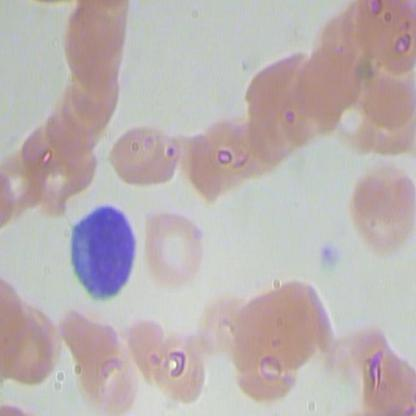RBC: (348, 159, 415, 262), (102, 118, 184, 186), (140, 210, 209, 288), (1, 308, 61, 388), (294, 43, 362, 113), (201, 117, 268, 187), (144, 332, 210, 402), (235, 338, 299, 406), (66, 1, 130, 67), (76, 345, 139, 412), (353, 347, 415, 415)
WBC: (64, 204, 137, 304)
